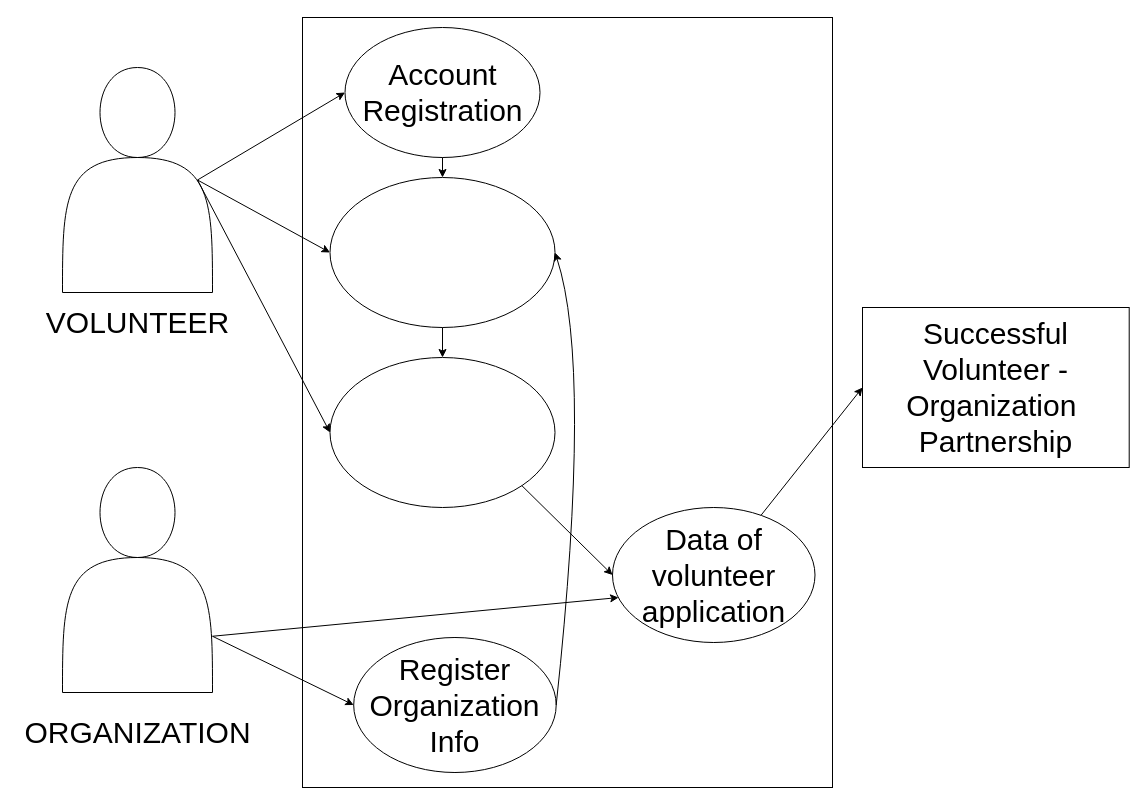
Image size: 1147x805. Some labels were removed from this diagram. The box of each missing label's shape, as (x1, y1, x2, y2) in pixels:
Apply as volunteer: (329, 356, 555, 508)
Search for desired organization: (329, 176, 555, 328)
